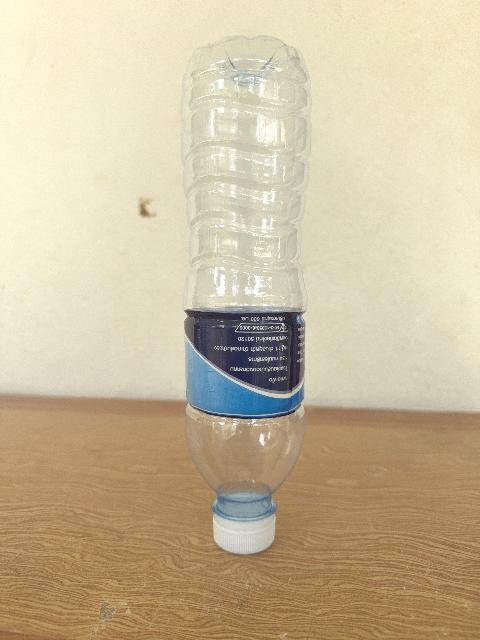bottle: (182, 36, 310, 553)
